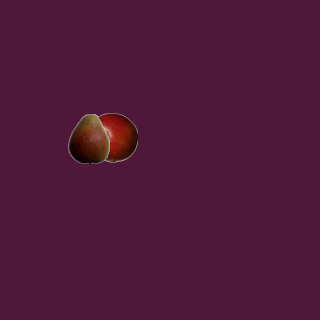Apple Braeburn: (87, 112, 137, 162)
Pear Forelle: (63, 113, 113, 163)
